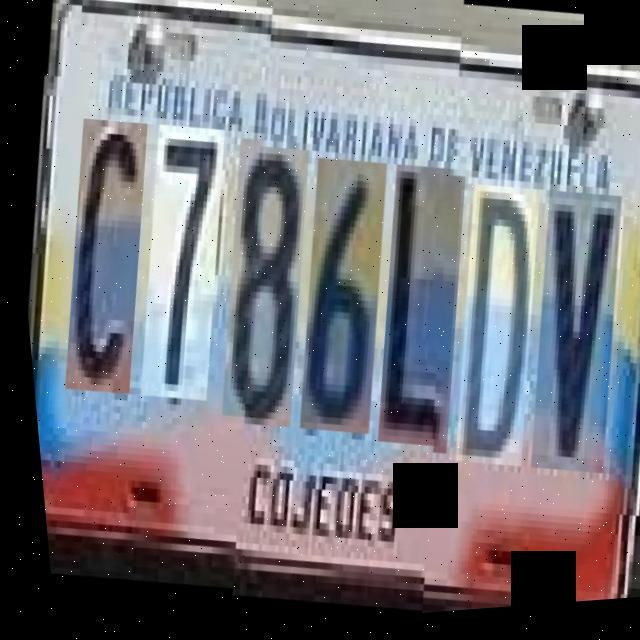6: (273, 152, 403, 437)
7: (114, 122, 241, 407)
8: (194, 138, 325, 428)
C: (39, 115, 167, 400)
D: (427, 175, 556, 465)
L: (351, 160, 481, 450)
V: (503, 181, 637, 473)
